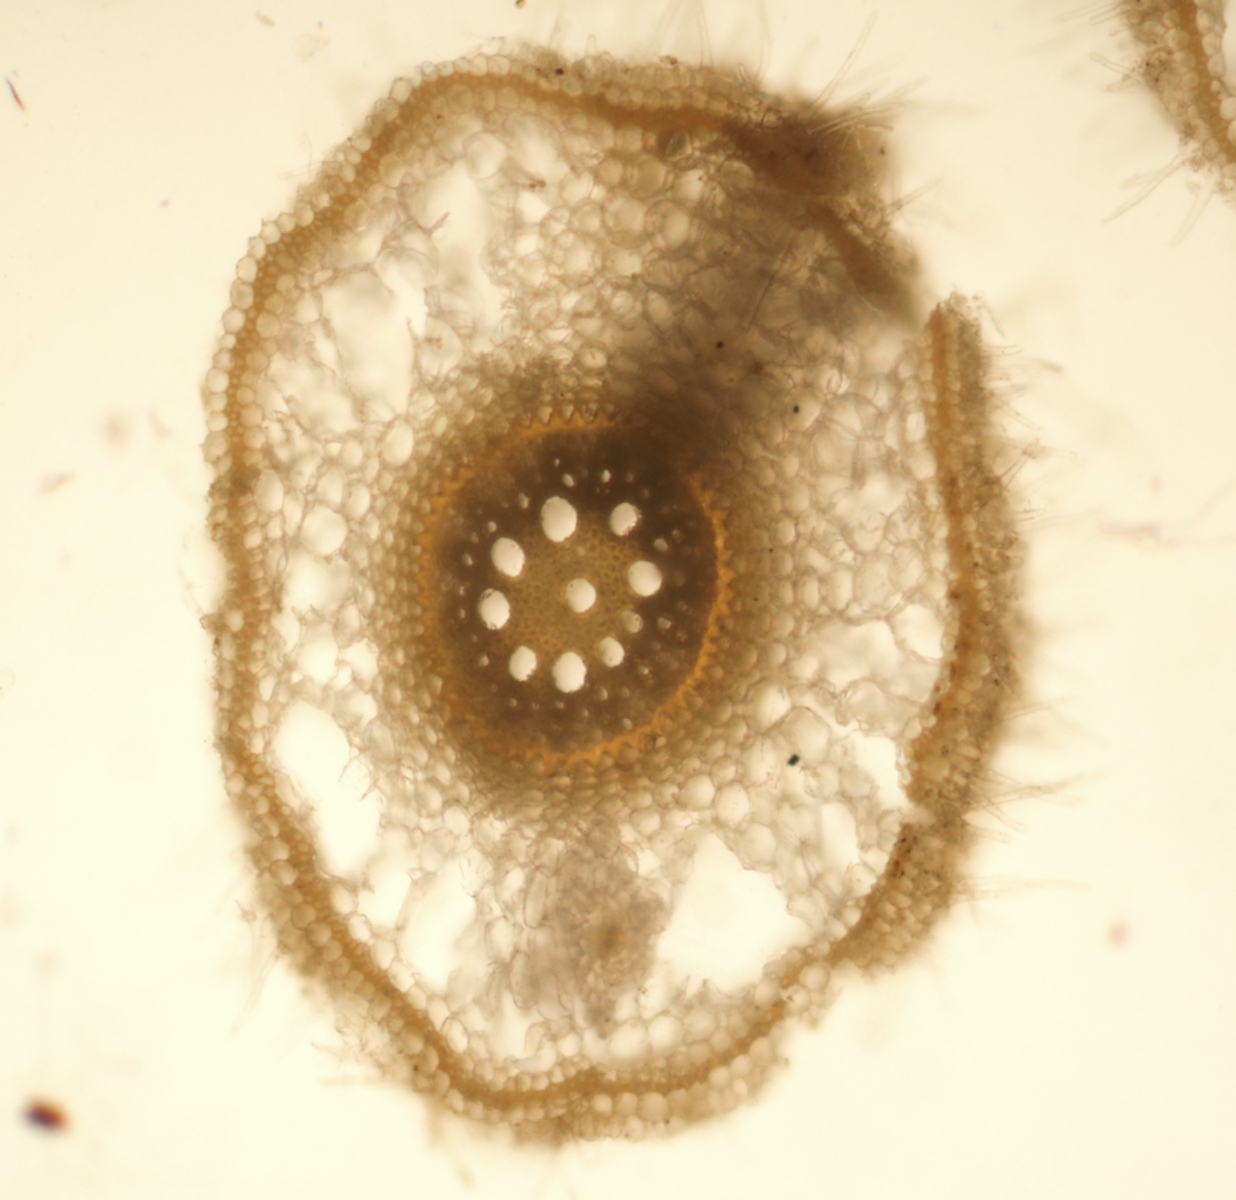lm: (540, 496, 578, 543), (552, 651, 587, 694), (490, 537, 525, 577), (477, 588, 511, 630), (628, 561, 663, 597), (508, 645, 537, 682), (609, 502, 641, 537), (565, 578, 596, 613), (597, 637, 625, 668), (621, 609, 642, 633)
